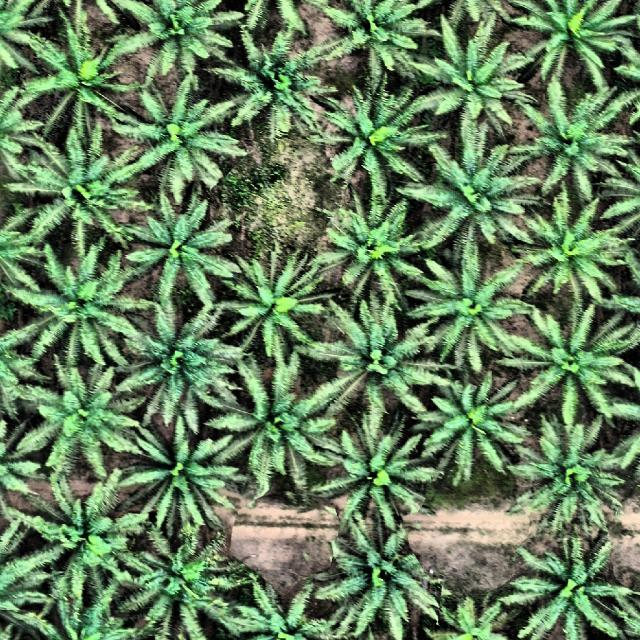Kelapa_Sawit: (512, 310, 628, 434), (232, 372, 330, 495), (210, 253, 320, 361), (326, 518, 429, 630), (139, 84, 239, 198), (130, 428, 240, 530), (427, 142, 525, 245), (330, 314, 426, 419), (526, 90, 618, 198), (522, 432, 619, 534), (131, 318, 233, 414), (530, 544, 632, 640), (30, 486, 126, 586), (228, 46, 332, 138), (422, 379, 519, 476), (36, 374, 132, 471), (424, 49, 526, 140), (27, 143, 126, 235), (42, 28, 130, 130), (131, 206, 228, 298), (334, 94, 426, 190), (522, 210, 614, 306), (37, 253, 126, 352), (117, 0, 239, 72), (523, 5, 640, 80), (325, 0, 433, 81), (426, 260, 512, 360), (325, 200, 411, 298), (130, 542, 228, 620), (228, 578, 332, 640), (439, 595, 499, 640)
